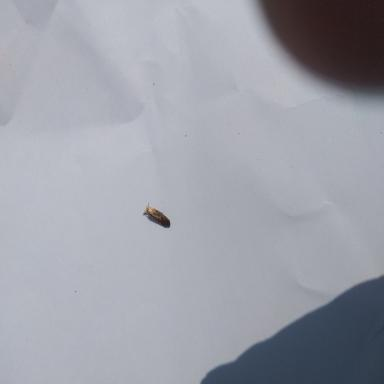pbw: (143, 202, 170, 226)
